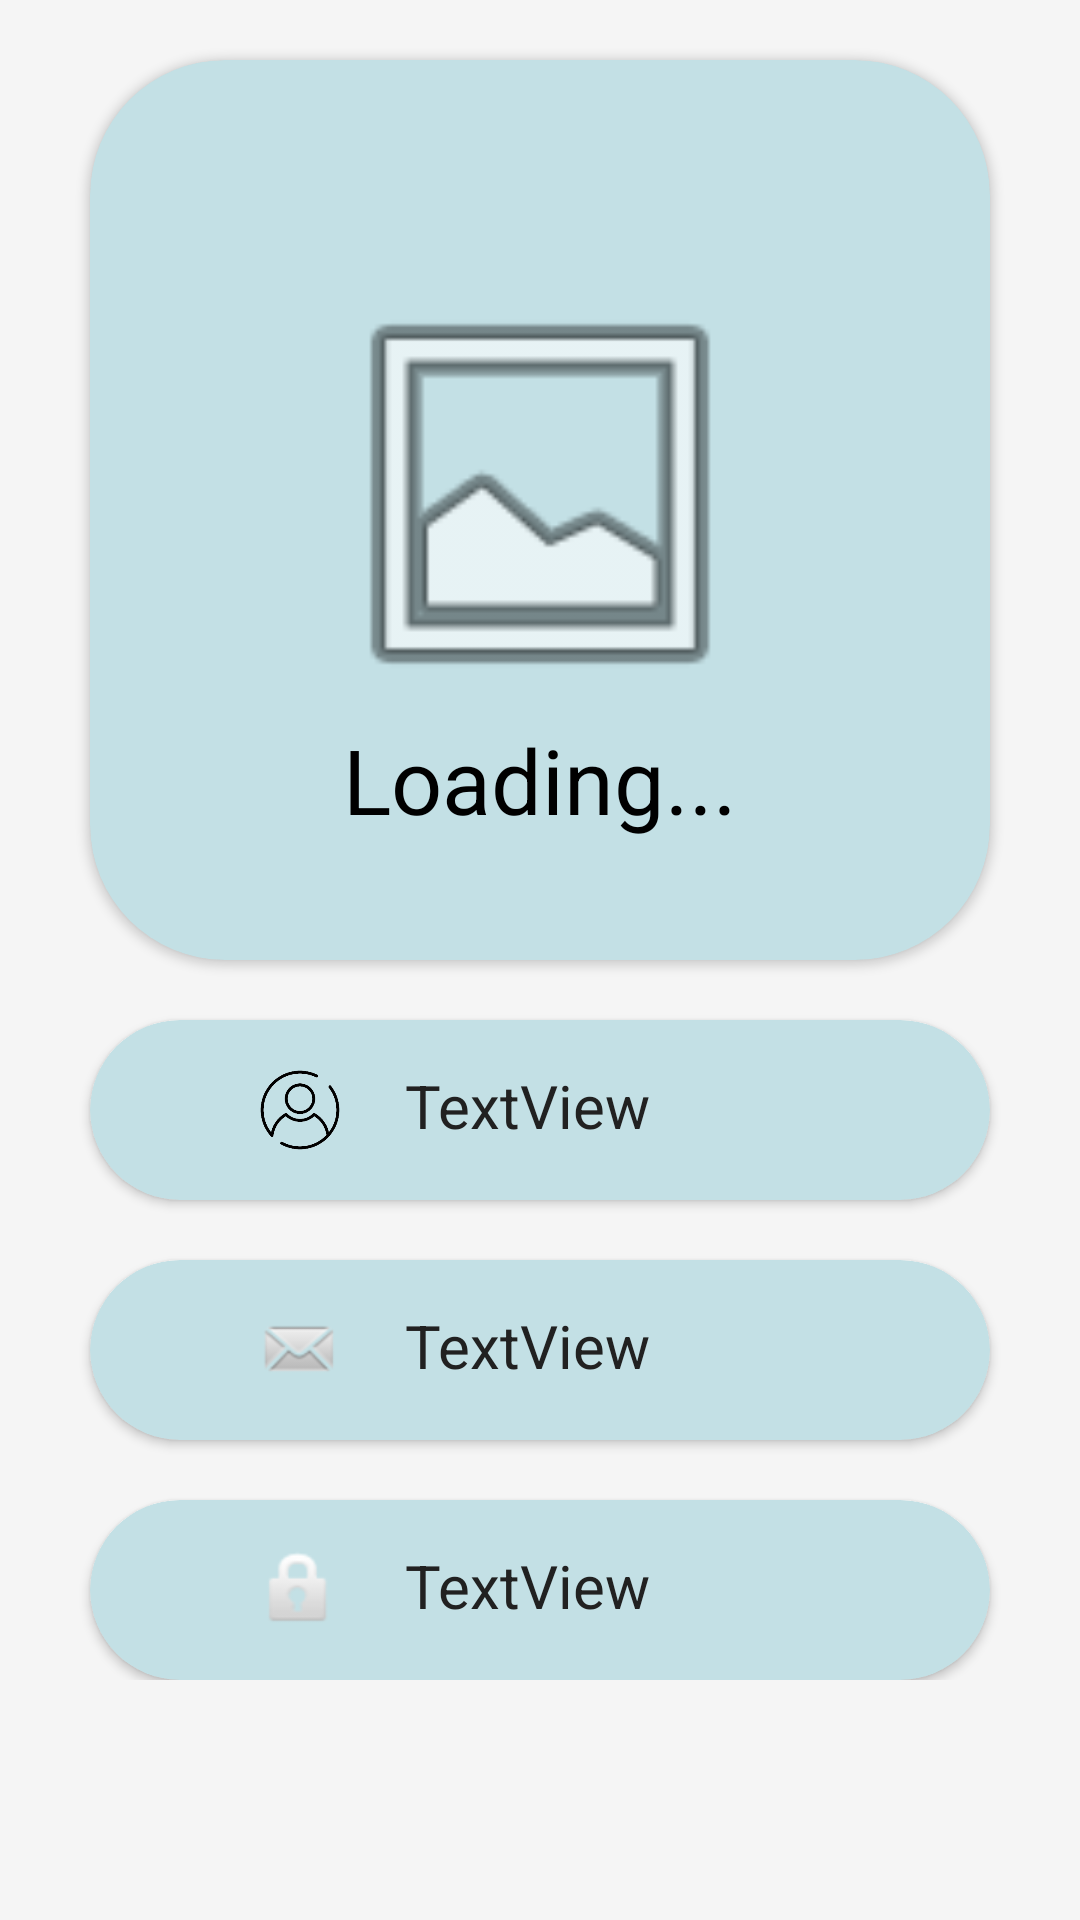

Named icons in this screenshot (1080×1920) and their centers, point (x, y):
gallery: point (540, 494)
lock idle: point (298, 1587)
profile: point (300, 1110)
sym action email: point (299, 1348)
